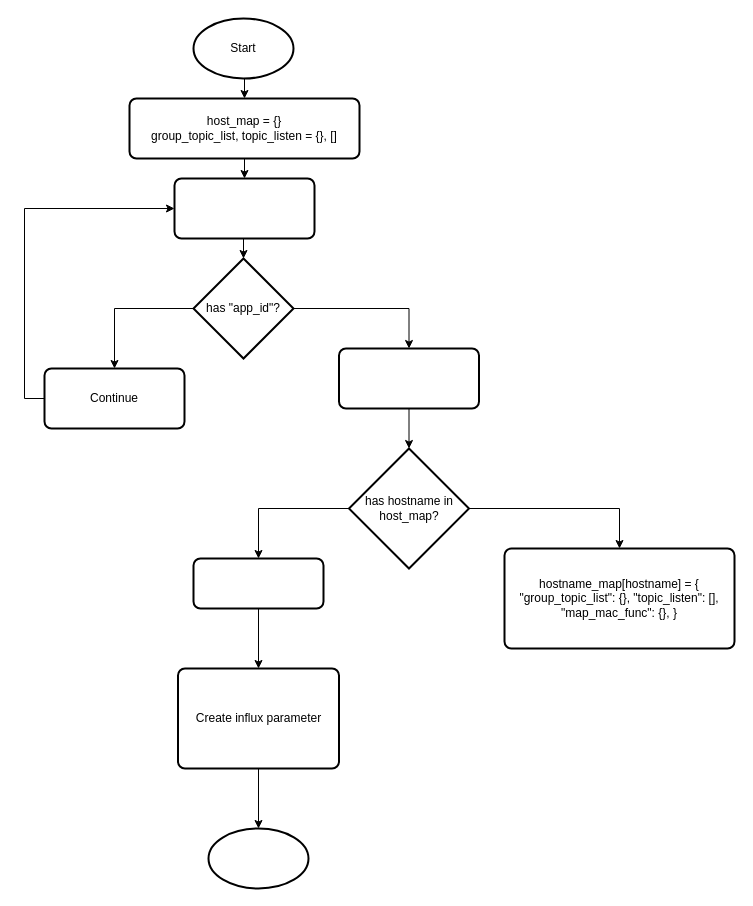
Some shapes in this 753 by 906 pixel diagram are drawn without their labels. Each missing label, with the centre of its shape:
"Get host name" goes at (409,378).
"Return host_map" goes at (258,858).
"Statement object" goes at (244,208).
"update topic update group topic" goes at (258,583).
